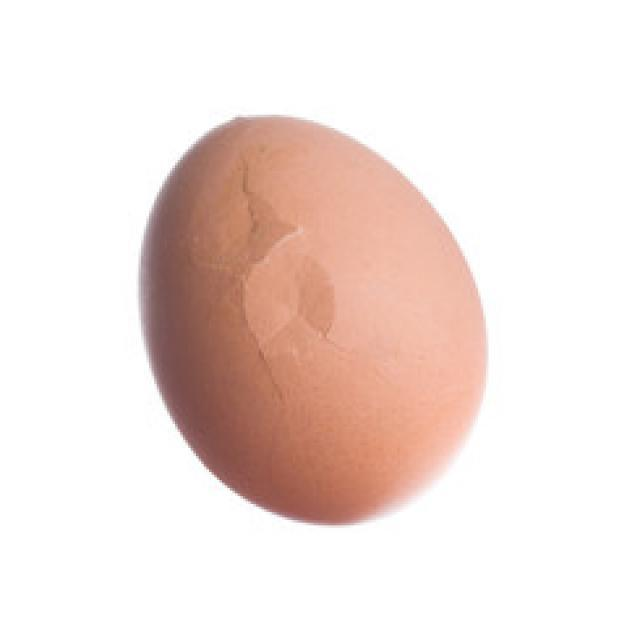biodegradable: (122, 113, 494, 532)
